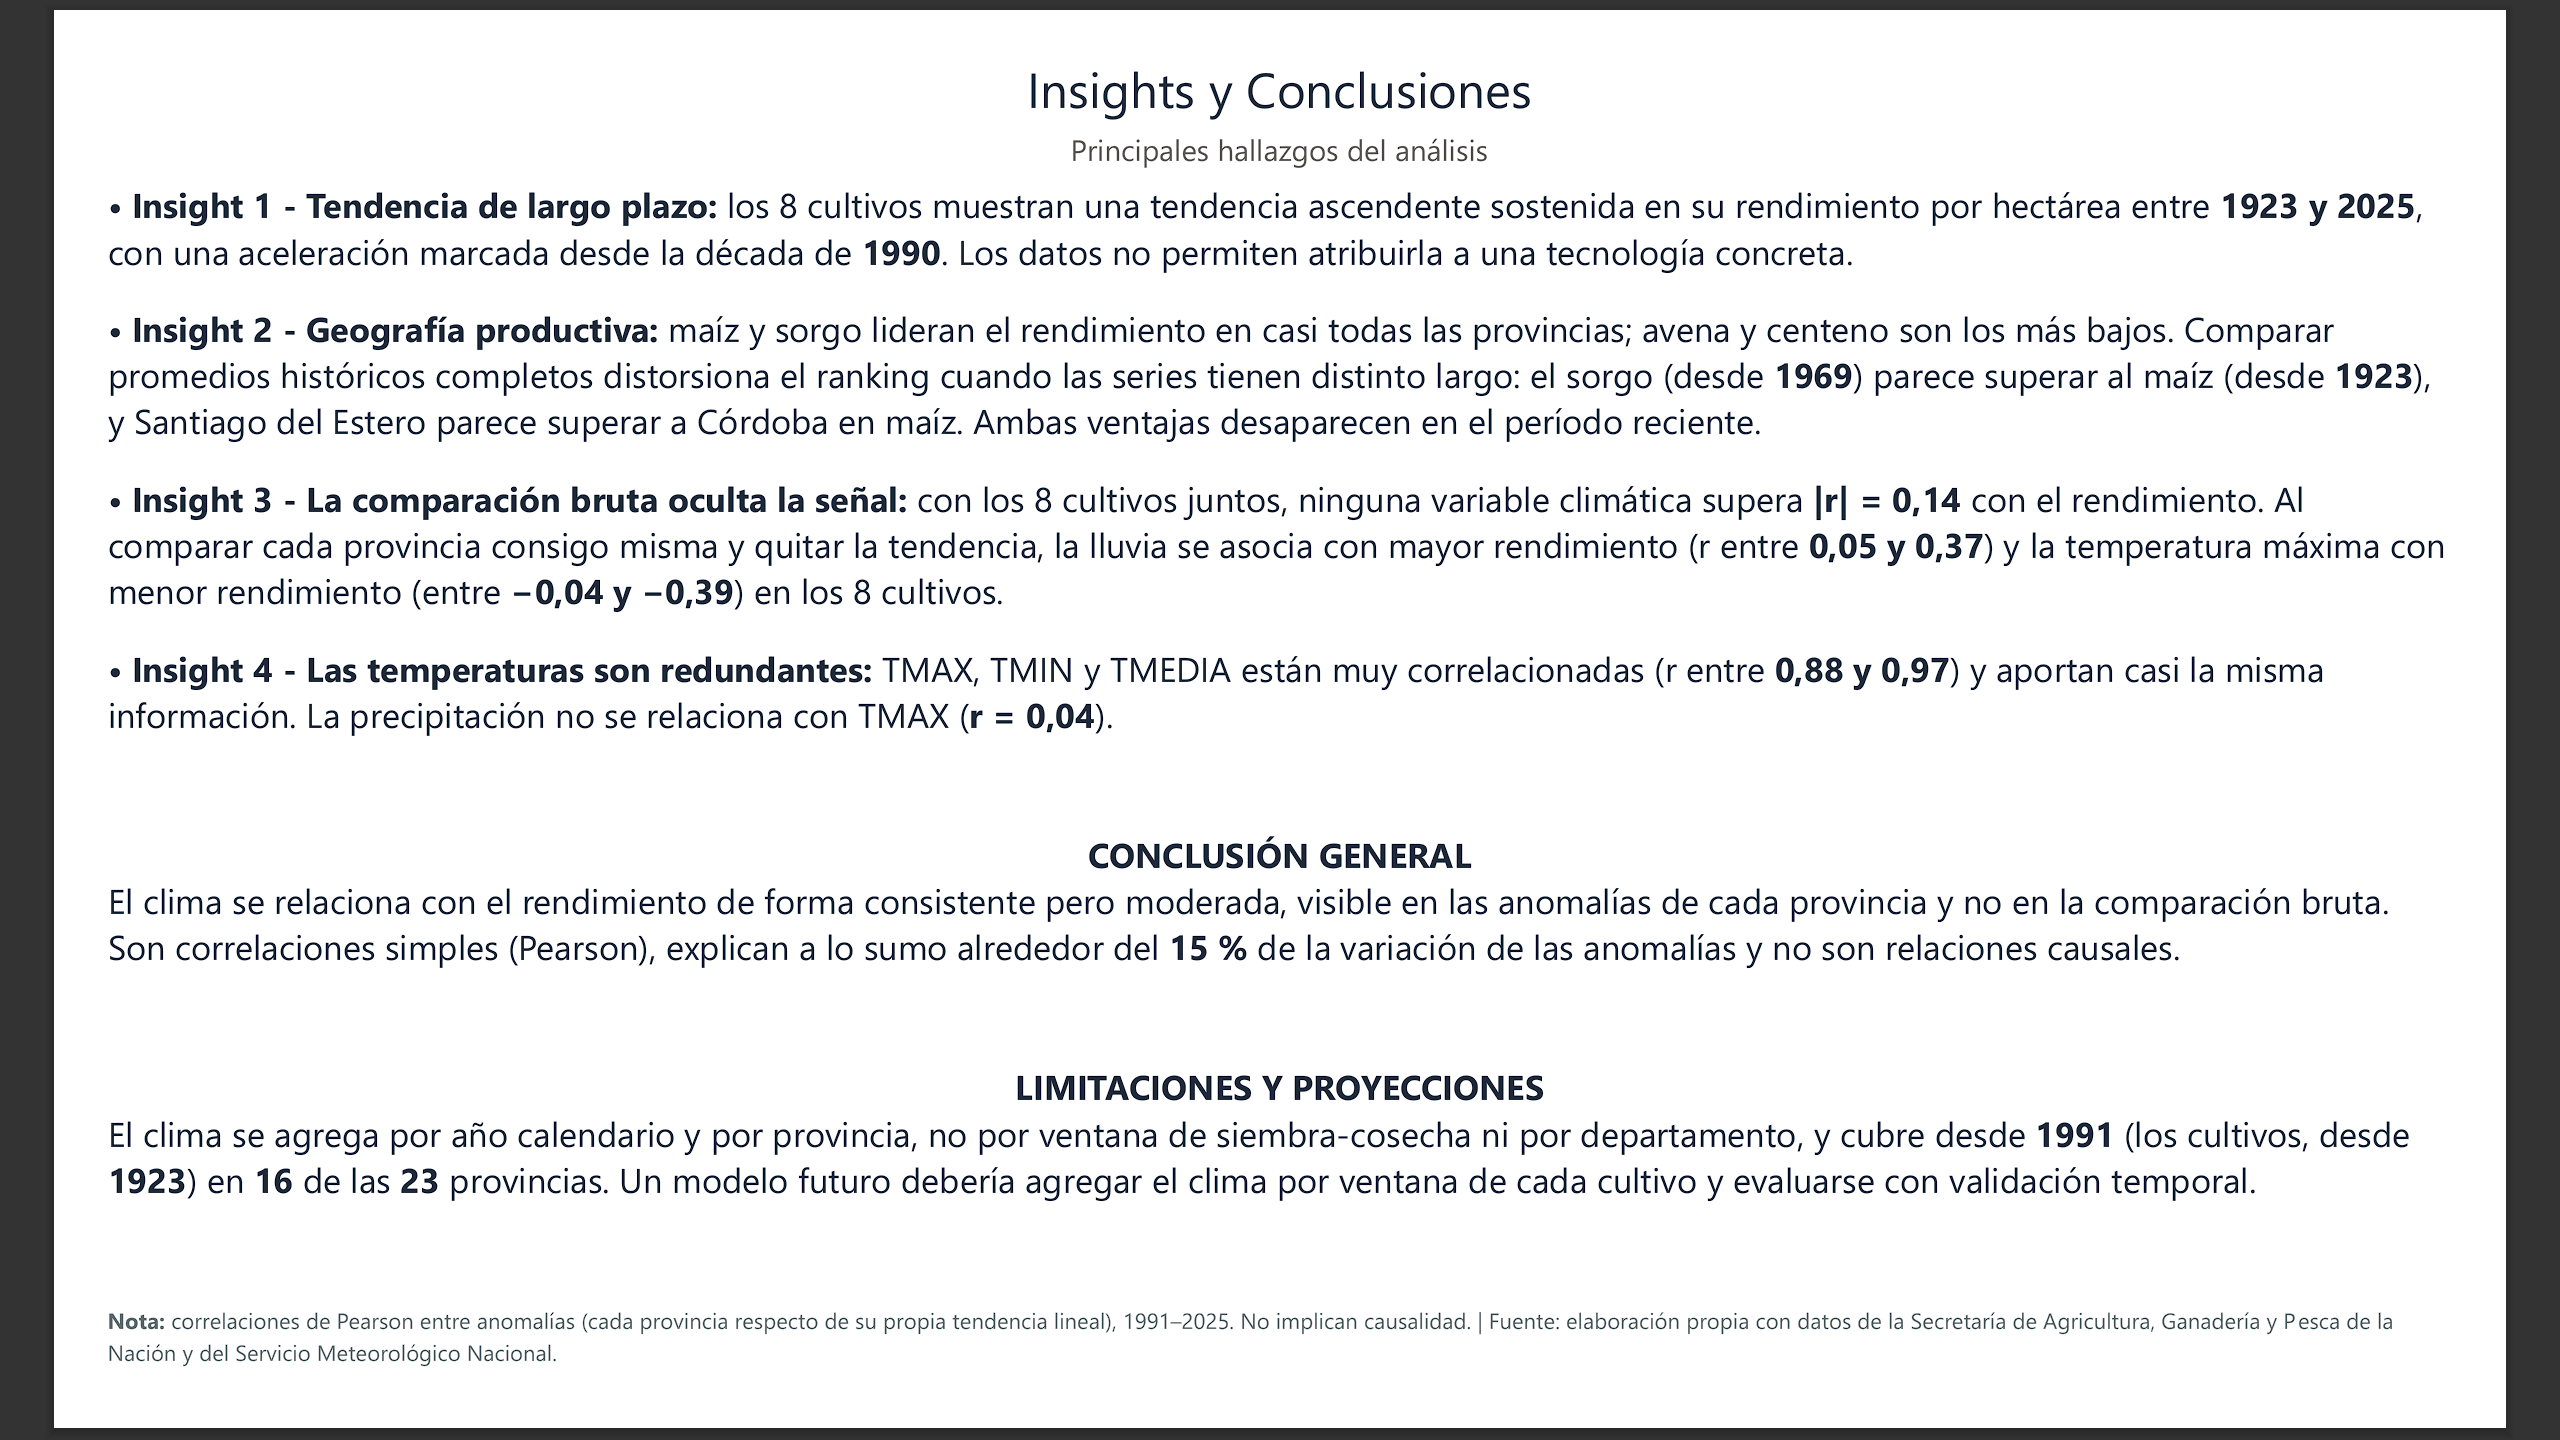

What the dashboard file says about the page in this screenshot:
{"tool":"powerbi","page":{"name":"Insights y Conclusiones","canvas":[1280,720],"ordinal":3},"visuals":[{"type":"textbox","title":"Insights y Conclusiones","box":[0,0,1280,64],"z":0},{"type":"textbox","box":[0,64.1,1280,607.9],"z":1000},{"type":"textbox","box":[0,672.1,1280,47.8],"z":1001}]}

Visuals, with their boxes in screenshot pixels (x1, y1, x2, y2), scaled from the page's 1280x720 canvas onto the 2560x1440 screenshot:
"Insights y Conclusiones" textbox: left=0, top=0, right=2559, bottom=128
textbox: left=0, top=128, right=2559, bottom=1344
textbox: left=0, top=1344, right=2559, bottom=1439
